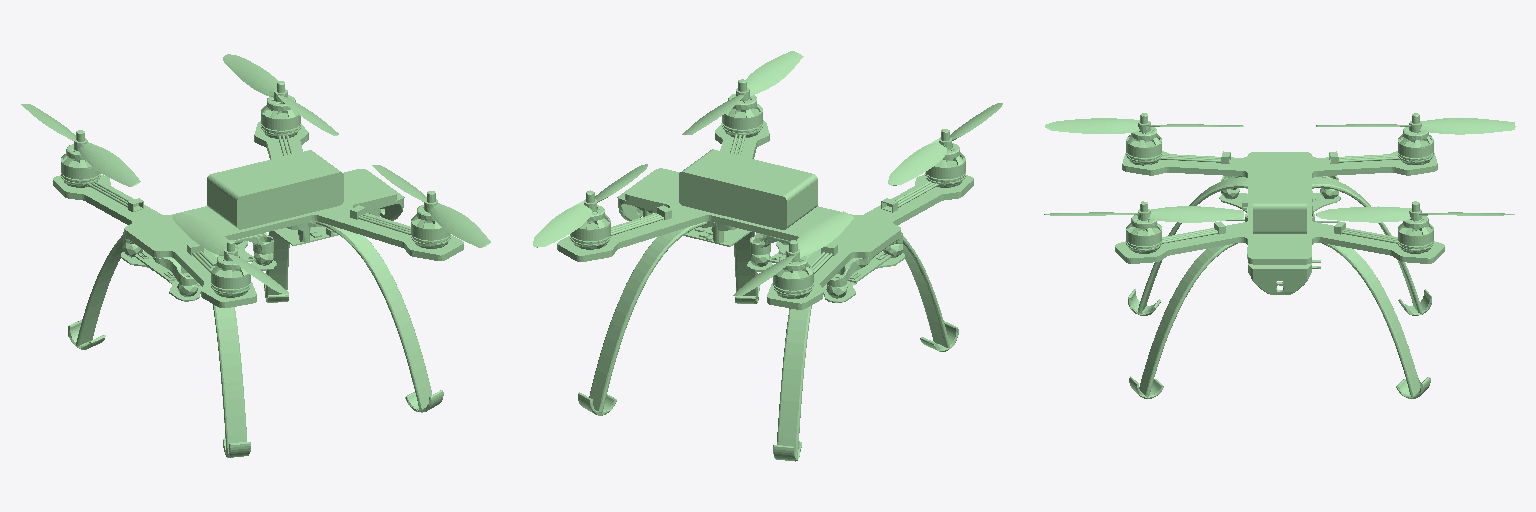
robot.urdf — dragon_ddk:
<?xml version="1.0"?>
<robot name="dragon_ddk">
  <link name="world"/>
  <link name="empty_link_x"/>
  <link name="empty_link_y"/>
  <link name="empty_link_z"/>
  <link name="empty_link_roll"/>
  <link name="empty_link_pitch"/>
  <link name="base_link">
    <visual>
      <geometry>
        <mesh filename="meshes/dddk2.stl"/>
      </geometry>
      <origin rpy="0 0 0" xyz="0 0 0"/>
      <material name="blue">
        <color rgba=".7 .9 .7 1"/>
      </material>
    </visual>
    <collision>
      <geometry>
        <mesh filename="meshes/dddk2.stl"/>
      </geometry>
      <origin rpy="0 0 0" xyz="0 0 0"/>
      <material name="blue">
        <color rgba=".7 .9 .7 1"/>
      </material>
    </collision>
  </link>
  <joint name="joint_translation_x" type="prismatic">
    <origin xyz="-0.0 -0.0 0" rpy="0 0 0"/>
    <axis xyz="1 0 0"/>
    <parent link="world"/>
    <child link="empty_link_x"/>
    <limit effort="1" lower="-10.0" upper="10.0" velocity="1"/>
  </joint>
  <joint name="joint_translation_y" type="prismatic">
    <origin xyz="0 0 0" rpy="0 0 0"/>
    <axis xyz="0 1 0"/>
    <parent link="empty_link_x"/>
    <child link="empty_link_y"/>
    <limit effort="1" lower="-10.0" upper="10.0" velocity="1"/>
  </joint>
  <joint name="joint_translation_z" type="prismatic">
    <origin xyz="0 0 0" rpy="0 0 0"/>
    <axis xyz="0 0 1"/>
    <parent link="empty_link_y"/>
    <child link="empty_link_z"/>
    <limit effort="1" lower="-10.0" upper="10.0" velocity="1"/>
  </joint>
  <joint name="joint_translation_roll" type="revolute">
    <origin xyz="0 0 0" rpy="0 0 0"/>
    <axis xyz="1 0 0"/>
    <parent link="empty_link_z"/>
    <child link="empty_link_roll"/>
    <limit effort="100" lower="-3.1415" upper="3.1415" velocity="1"/>
  </joint>
  <joint name="joint_translation_pitch" type="revolute">
    <origin xyz="0 0 0" rpy="0 0 0"/>
    <axis xyz="0 1 0"/>
    <parent link="empty_link_roll"/>
    <child link="empty_link_pitch"/>
    <limit effort="100" lower="-3.1415" upper="3.1415" velocity="1"/>
  </joint>
  <joint name="joint_translation_yaw" type="revolute">
    <origin xyz="0 0 0" rpy="0 0 0"/>
    <axis xyz="0 0 1"/>
    <parent link="empty_link_pitch"/>
    <child link="base_link"/>
    <limit effort="100" lower="-3.1415" upper="3.1415" velocity="1"/>
  </joint>
</robot>

--- What the picture shows (computed from the rendered views, not written in the file) ---
The picture shows the robot from 3 angles, left to right: view 1: azimuth 30°, elevation 25°; view 2: azimuth 150°, elevation 25°; view 3: azimuth 270°, elevation 25°; orthographic projection.
Robot: dragon_ddk — 7 links, 6 joints (3 revolute, 3 prismatic); root link world; default pose: all joints at 0.
Links seen in each view (by area): view 1: base_link; view 2: base_link; view 3: base_link.
Link boxes in pixels (bbox=[...]): base_link: bbox=[21, 54, 490, 457]; base_link: bbox=[533, 51, 1002, 461]; base_link: bbox=[1044, 113, 1515, 398].
Size in the robot's own frame: 0.1699 by 0.2999 by 0.1372 metres.
Meshes: 1 distinct files referenced, 1 mesh visuals loaded (1 binary STL).
